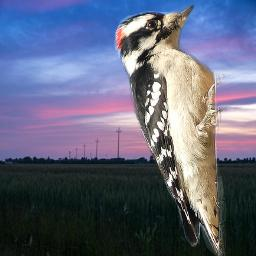Woodpecker: (114, 5, 226, 256)
